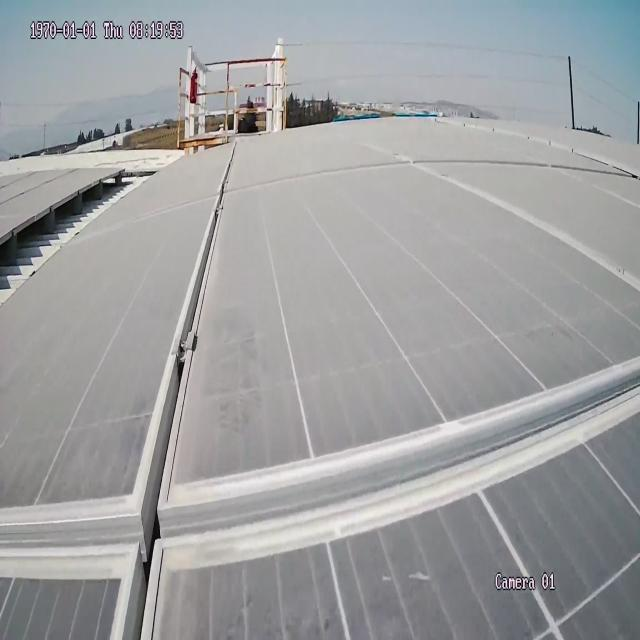interior panel: (0, 129, 640, 640)
outher panel: (0, 164, 169, 331)
